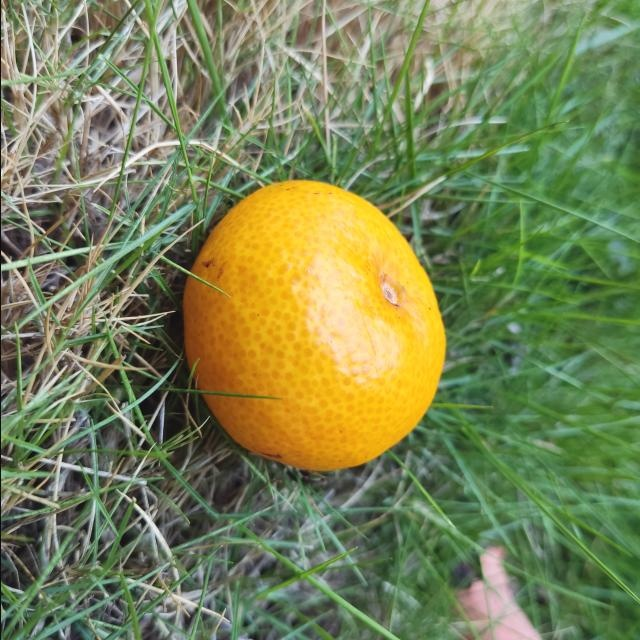agrume: (177, 177, 447, 468)
